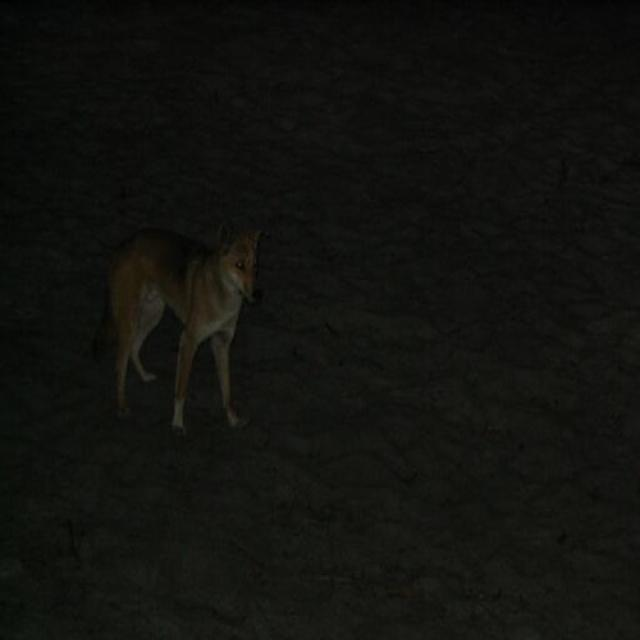Dog: (68, 161, 350, 466)
